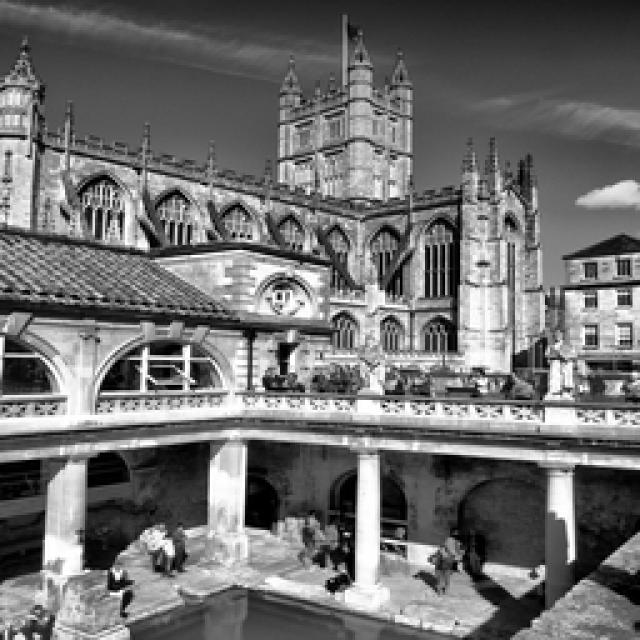Abbey: (273, 30, 560, 588), (46, 564, 136, 639)
